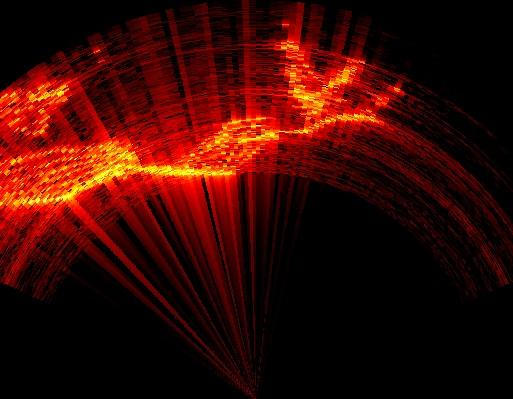shipwreck: (0, 117, 306, 210), (1, 83, 69, 137), (286, 63, 356, 115), (312, 109, 382, 127), (281, 41, 298, 60)
